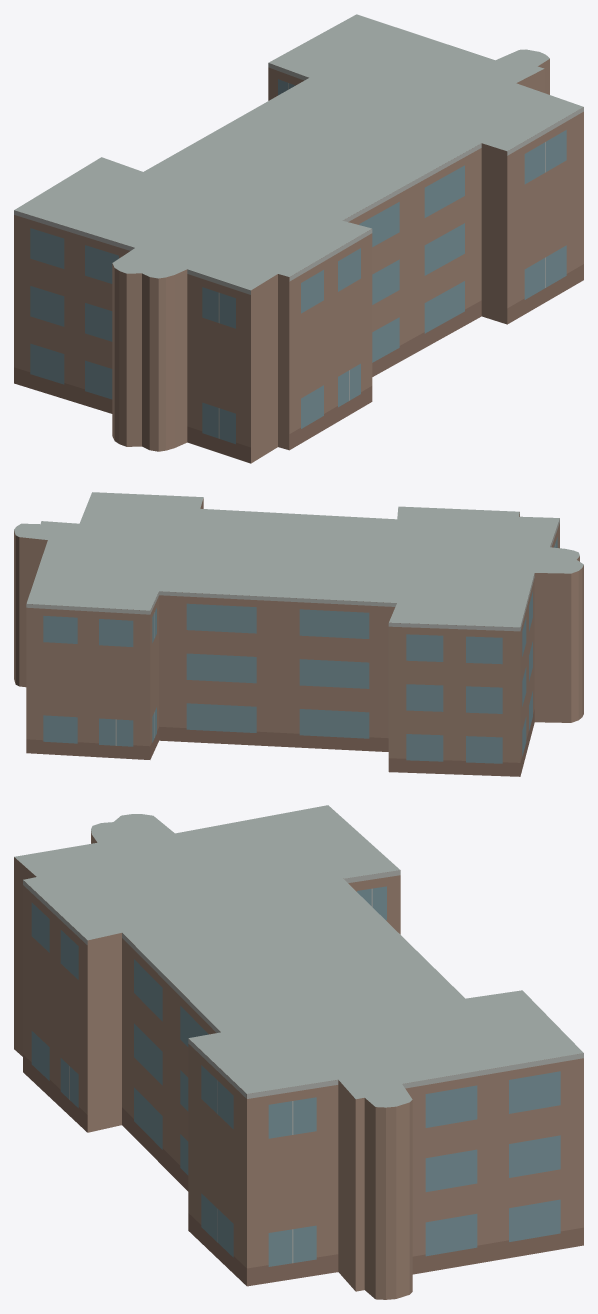
Rendered from survey-upis-32862896.glb.
The picture shows the model from 3 angles, top to bottom: view 1: azimuth 30°, elevation 25°; view 2: azimuth 150°, elevation 25°; view 3: azimuth 270°, elevation 25°; orthographic projection. The views are drawn at different scales.
Visible parts, largest first — view 1: survey-upis-32862896.tmp; view 2: survey-upis-32862896.tmp; view 3: survey-upis-32862896.tmp.
Boxes of the visible parts, <box> form: survey-upis-32862896.tmp: <box>14,14,583,463</box>; survey-upis-32862896.tmp: <box>14,492,583,776</box>; survey-upis-32862896.tmp: <box>14,805,583,1299</box>.
Size of the model in its own units: 30.86 by 9.15 by 24.57.
